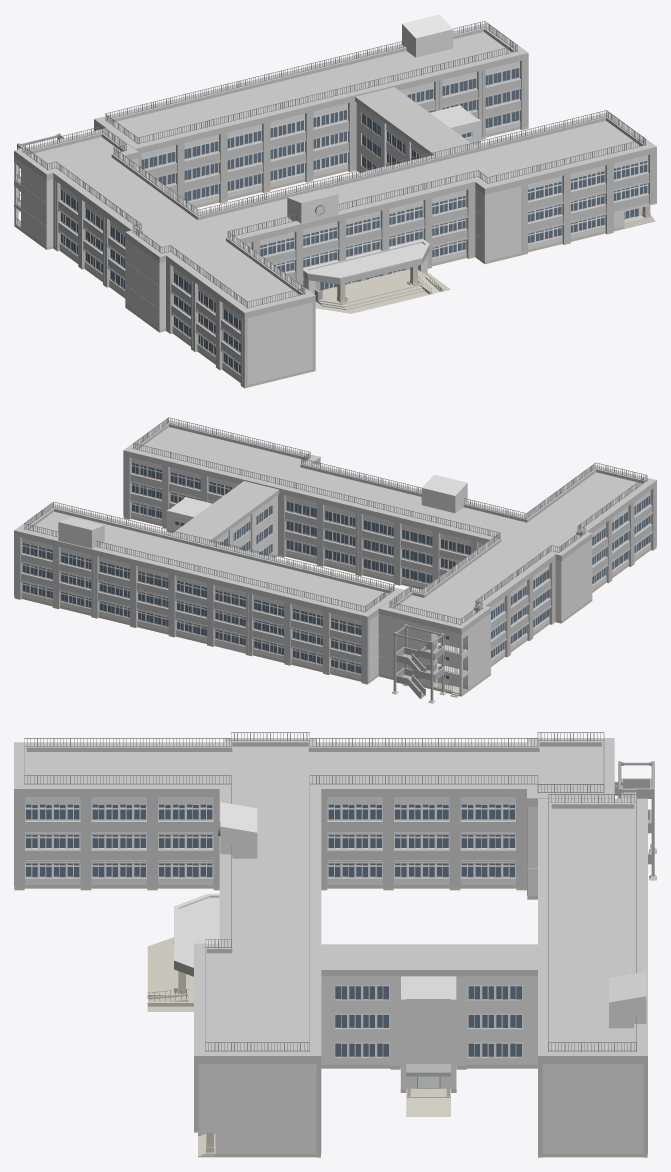
The model's file is School building.fbx.
The picture shows the model from 3 angles, top to bottom: view 1: azimuth 30°, elevation 25°; view 2: azimuth 150°, elevation 25°; view 3: azimuth 270°, elevation 25°; orthographic projection. The views are drawn at different scales.
Visible parts, largest first — view 1: School building; view 2: School building; view 3: School building.
Part boxes in pixels (x1,y1,x2,y2): School building: [14, 14, 656, 388]; School building: [14, 417, 656, 703]; School building: [14, 732, 656, 1157].
Bounding box in the file's own units: 1770 × 336 × 1512.
